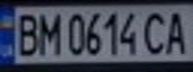0: (63, 9, 84, 56)
1: (103, 9, 121, 56)
4: (118, 9, 142, 56)
6: (84, 9, 106, 56)
A: (160, 7, 193, 55)
B: (9, 9, 42, 56)
C: (139, 8, 172, 56)
M: (33, 9, 63, 56)
